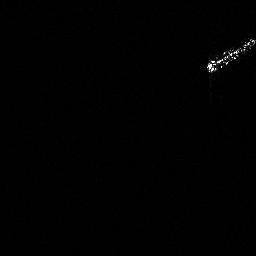ship: (204, 35, 256, 76)
